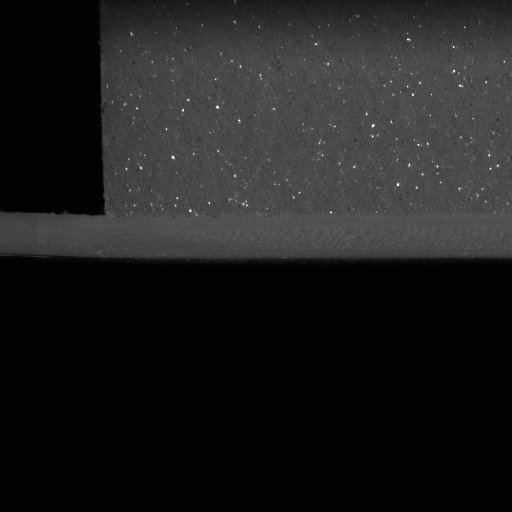changdai: (0, 211, 108, 259)
